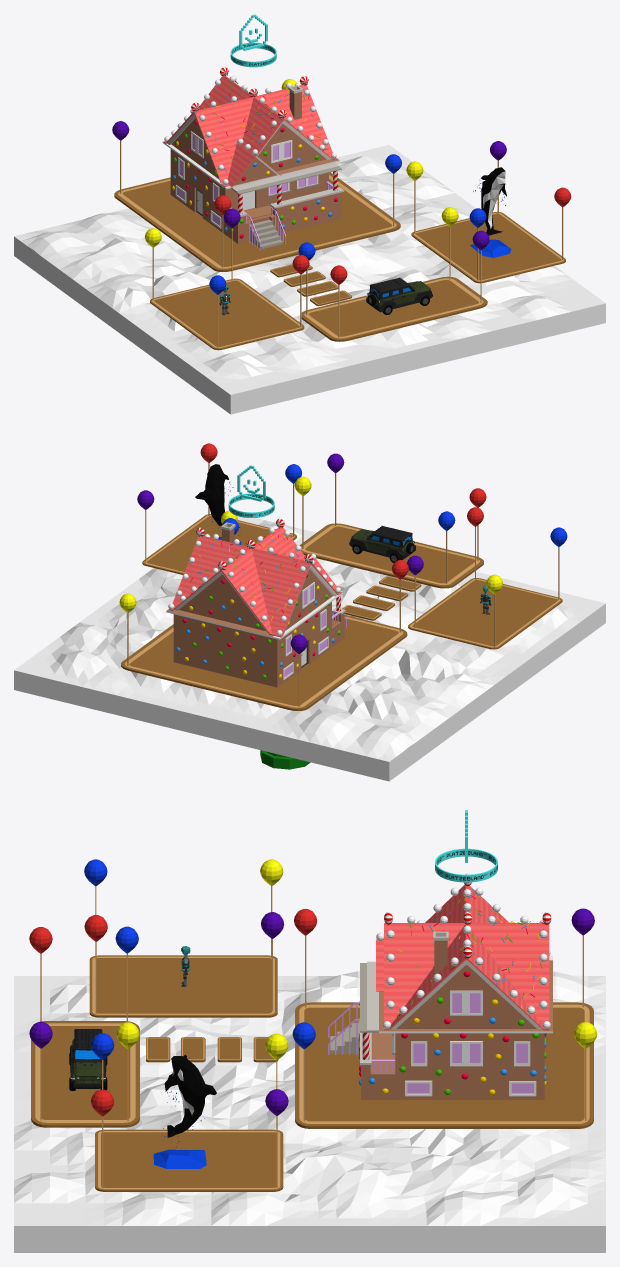
The picture shows the model from 3 angles, top to bottom: view 1: azimuth 30°, elevation 25°; view 2: azimuth 150°, elevation 25°; view 3: azimuth 270°, elevation 25°; orthographic projection. The views are drawn at different scales.
Parts seen in each view (by area): view 1: Cube.013, Cube.1203, VEHICLES_JEEP, ANIMAL_ORCA, TYPE_PREMIUM; view 2: Cube.013, Cube.1203, VEHICLES_JEEP, ANIMAL_ORCA, TYPE_PREMIUM, UNDERGROUND_PIPES; view 3: Cube.013, Cube.1203, ANIMAL_ORCA, VEHICLES_JEEP, TYPE_PREMIUM.
Part boxes in pixels (left/top/right/bottom): Cube.013: left=14, top=79, right=605, bottom=414; Cube.1203: left=162, top=67, right=344, bottom=250; VEHICLES_JEEP: left=366, top=277, right=432, bottom=314; ANIMAL_ORCA: left=470, top=167, right=511, bottom=257; TYPE_PREMIUM: left=230, top=14, right=276, bottom=67; Cube.013: left=14, top=443, right=605, bottom=781; Cube.1203: left=166, top=518, right=346, bottom=687; VEHICLES_JEEP: left=349, top=525, right=415, bottom=562; ANIMAL_ORCA: left=195, top=464, right=241, bottom=544; TYPE_PREMIUM: left=228, top=465, right=274, bottom=517; UNDERGROUND_PIPES: left=260, top=750, right=310, bottom=769; Cube.013: left=14, top=859, right=605, bottom=1252; Cube.1203: left=328, top=873, right=552, bottom=1099; ANIMAL_ORCA: left=153, top=1054, right=216, bottom=1168; VEHICLES_JEEP: left=69, top=1029, right=107, bottom=1090; TYPE_PREMIUM: left=435, top=810, right=497, bottom=882.
Bounding box in the file's own units: 4000 × 3027 × 4000.
Materials: 42 (3 with a texture image).
